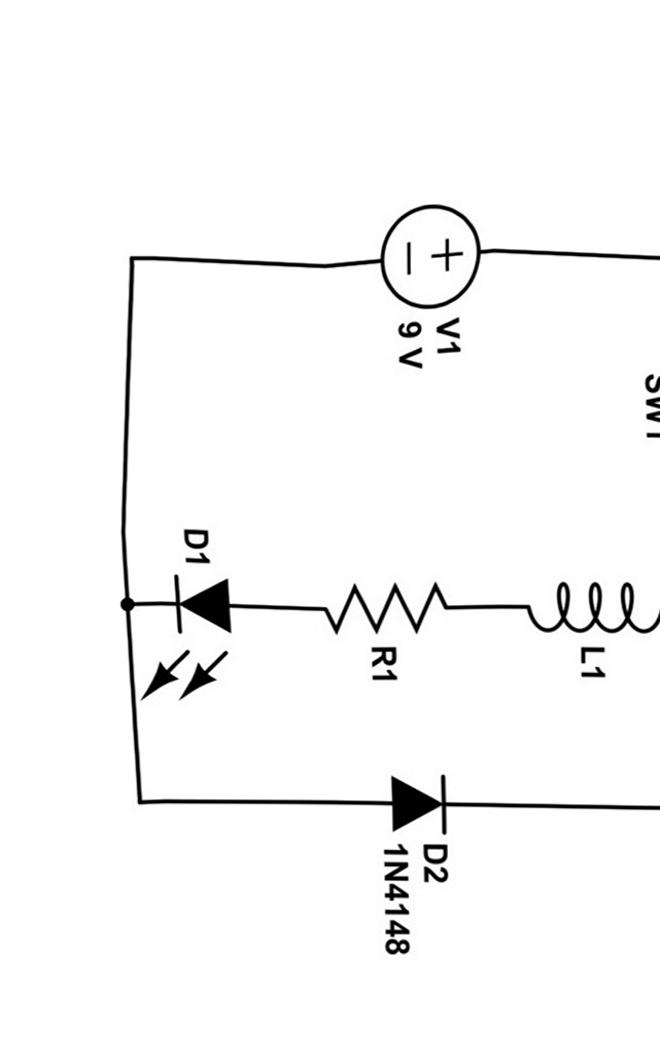Battery: (349, 182, 502, 323)
